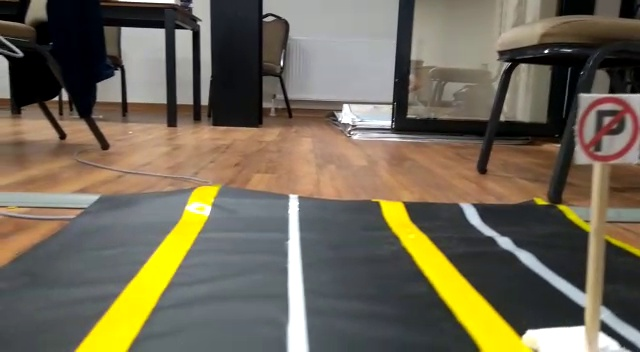park_yapilmaz: (578, 94, 640, 163)
